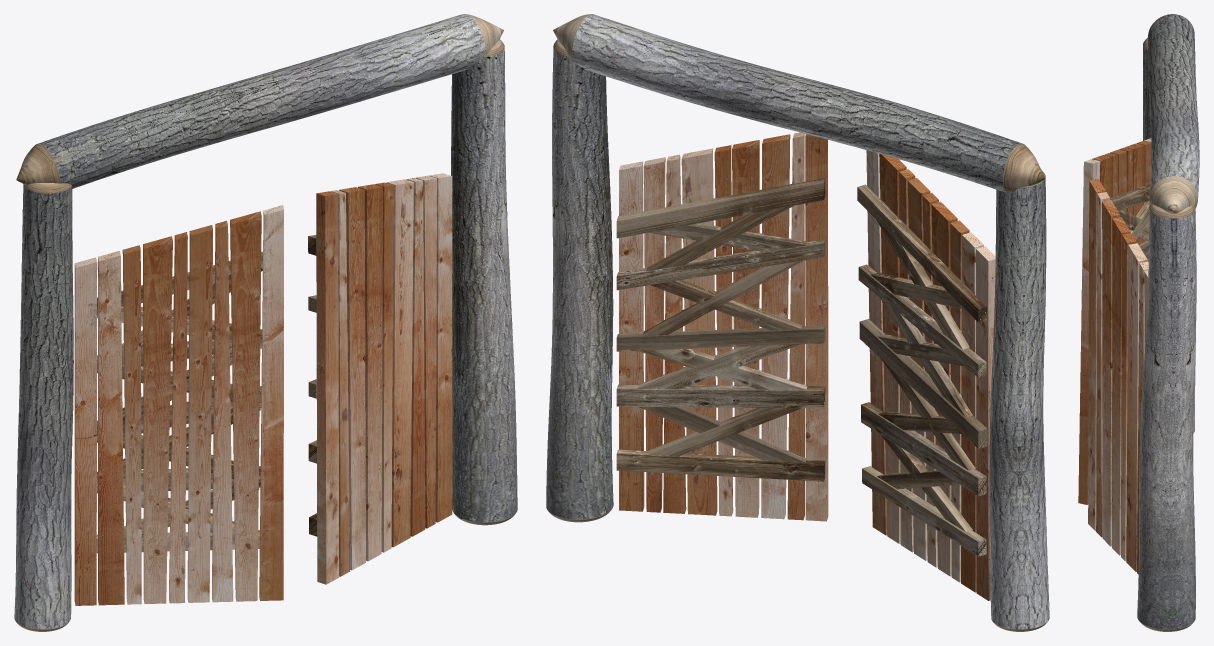
File: viking_palisade_gate_01.obj
3 views of the same model, side by side, from view 1: azimuth 30°, elevation 25°; view 2: azimuth 150°, elevation 25°; view 3: azimuth 270°, elevation 25° (orthographic). The views are drawn at different scales.
Bounding box in the file's own units: 4.54 × 4.39 × 1.09.
Materials: 24 (24 with a texture image).
